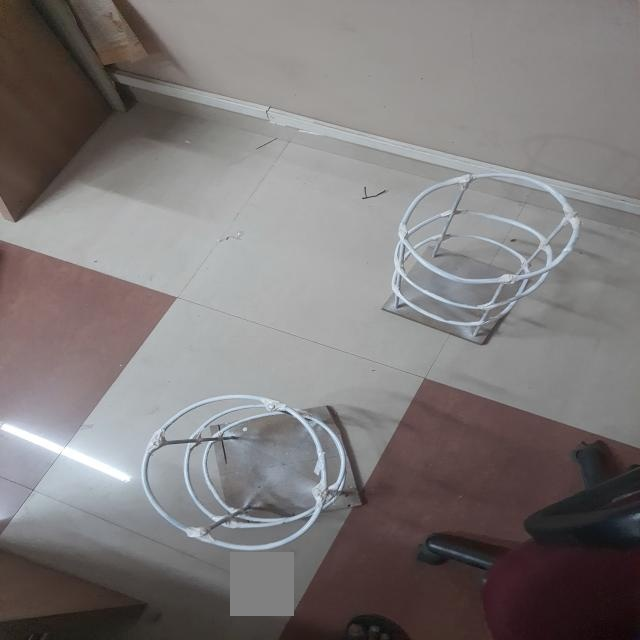silo: (146, 393, 362, 558), (380, 169, 566, 338)
